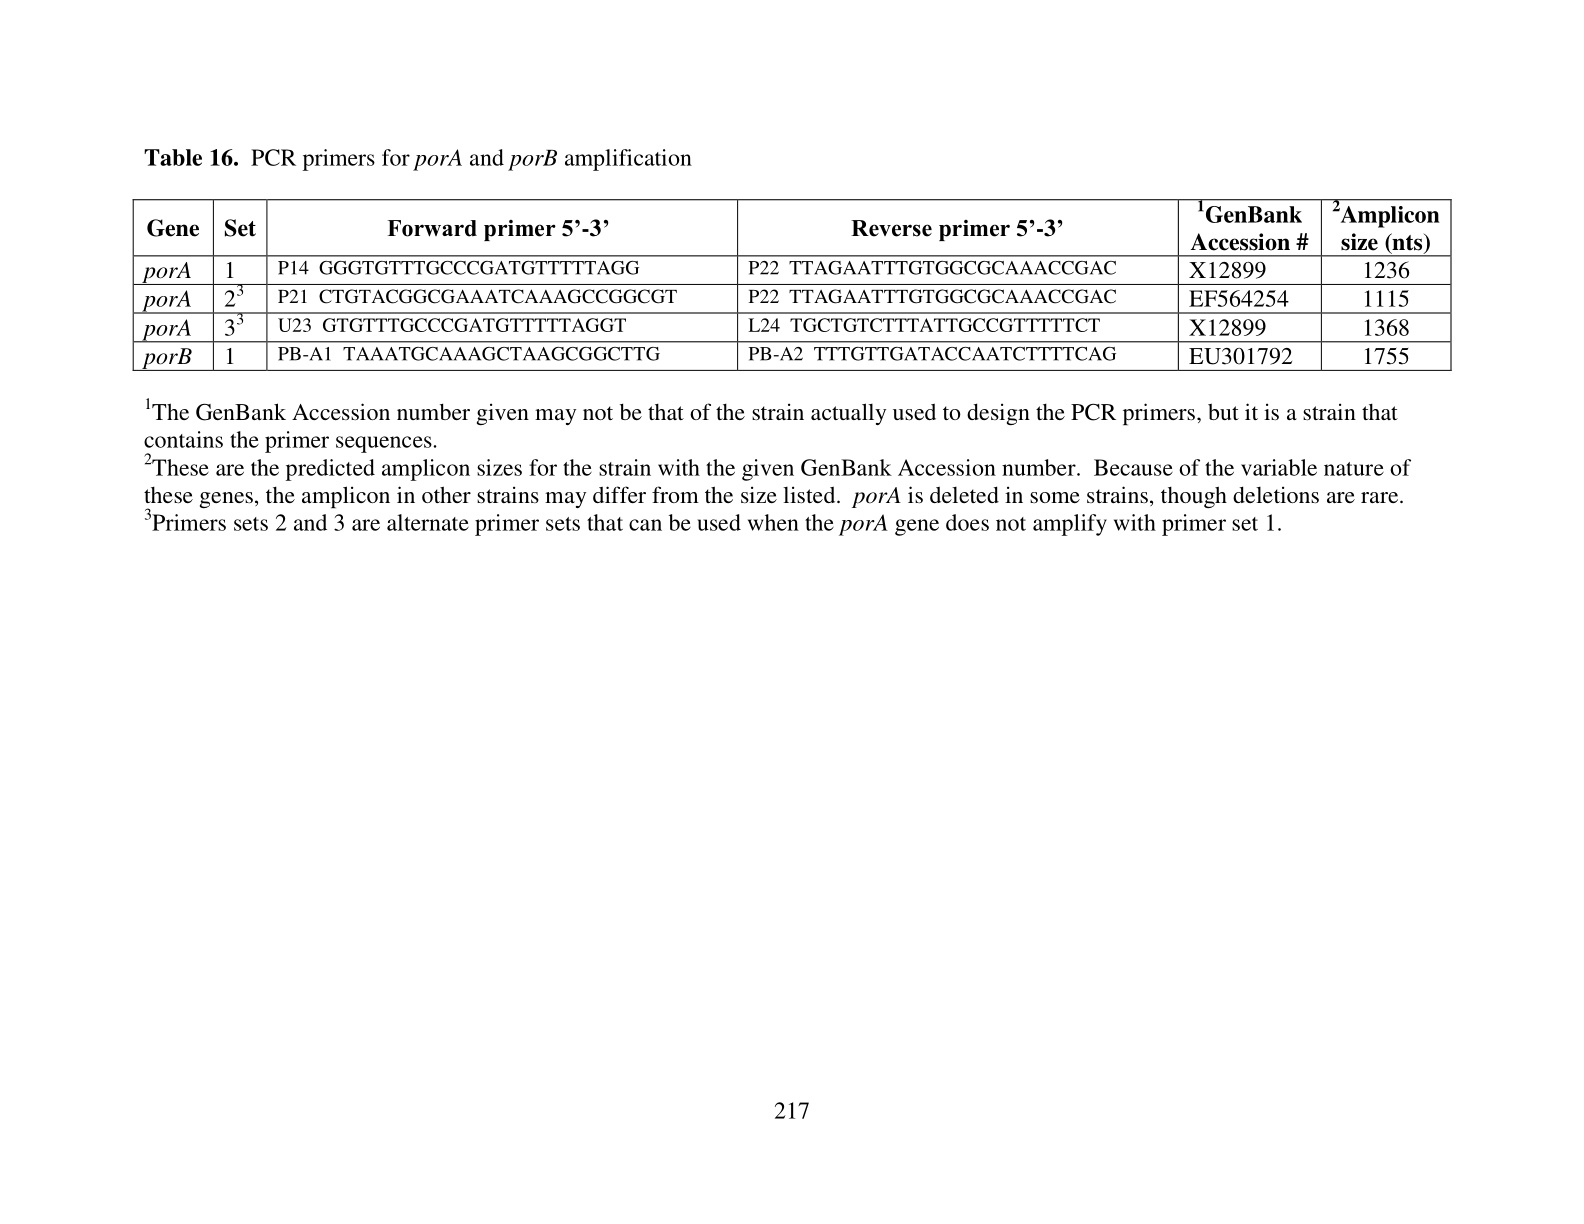full_lined: (131, 198, 1453, 372)
